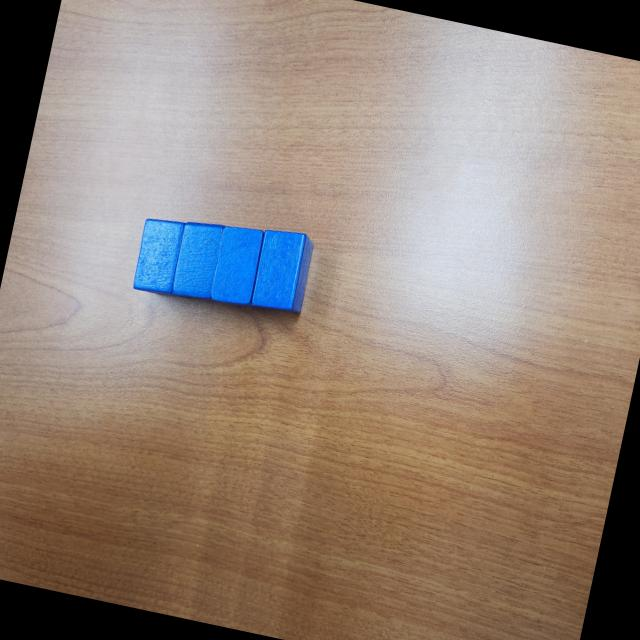blue: (247, 226, 317, 319), (208, 222, 267, 312), (168, 216, 226, 304), (130, 215, 186, 298)
